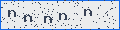n: (84, 9, 92, 17), (8, 10, 16, 18), (44, 16, 52, 23), (24, 15, 32, 22), (59, 13, 66, 20)
